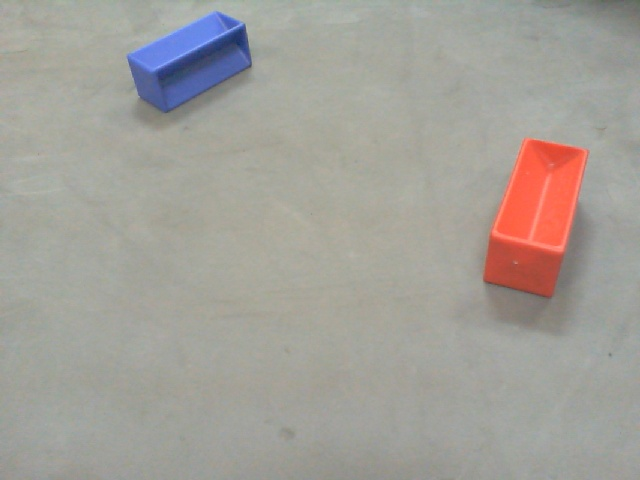BlueSample: (128, 10, 255, 116)
RedSample: (476, 136, 590, 300)
